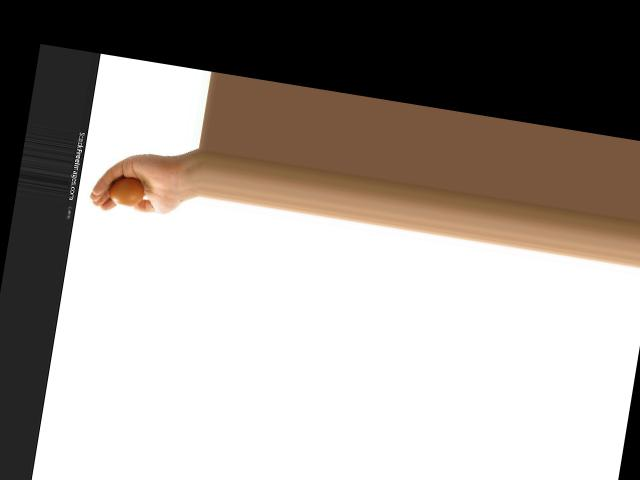egg: (105, 174, 146, 208)
